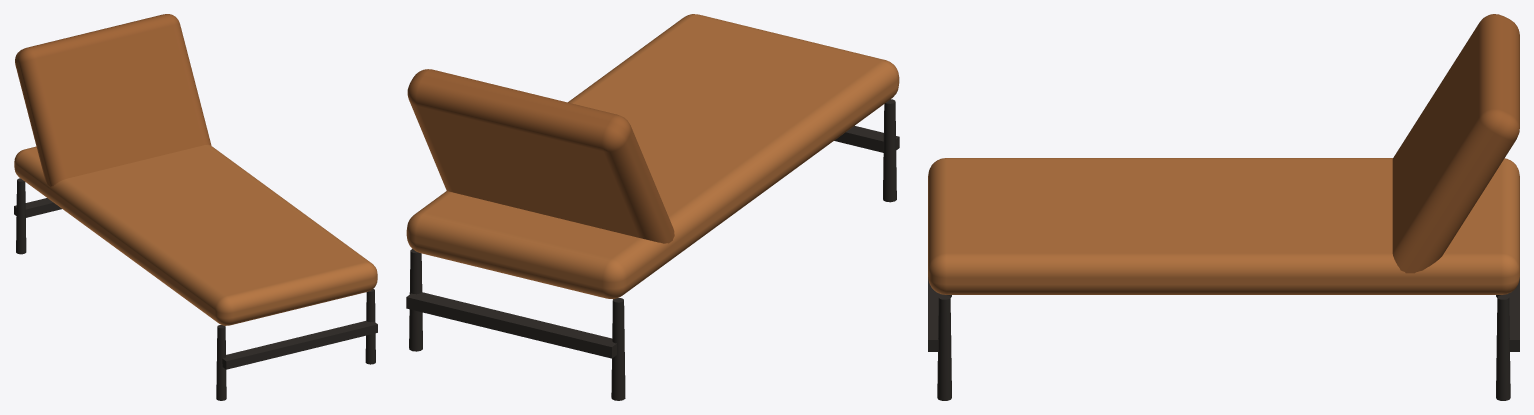
Rendered from loungechair.glb.
3 views of the same model, side by side, from view 1: azimuth 30°, elevation 25°; view 2: azimuth 150°, elevation 25°; view 3: azimuth 270°, elevation 25° (orthographic). The views are drawn at different scales.
Visible parts, largest first — view 1: material-1-upholstery, material-2-accent, material-0-leg; view 2: material-1-upholstery, material-2-accent, material-0-leg; view 3: material-1-upholstery, material-2-accent, material-0-leg.
Part boxes in pixels (x1,y1,x2,y2): material-1-upholstery: (14, 144, 377, 325); material-2-accent: (15, 14, 211, 186); material-0-leg: (14, 178, 377, 400); material-1-upholstery: (406, 14, 899, 299); material-2-accent: (407, 69, 674, 243); material-0-leg: (406, 99, 899, 400); material-1-upholstery: (928, 158, 1519, 294); material-2-accent: (1392, 14, 1519, 273); material-0-leg: (928, 277, 1519, 400).
Size of the model in its own units: 0.7 by 0.8498 by 1.6.
